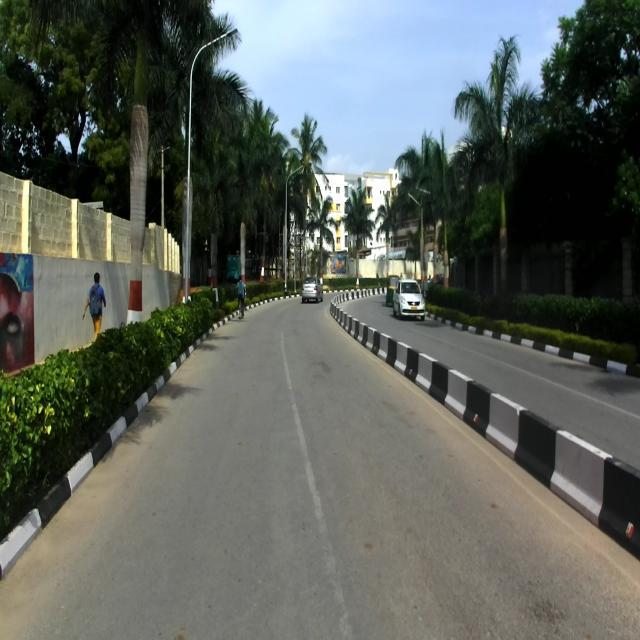electric pole ahead at: (180, 44, 197, 309)
person ahead at: (82, 265, 105, 343)
tree ahead at: (117, 52, 157, 330)
